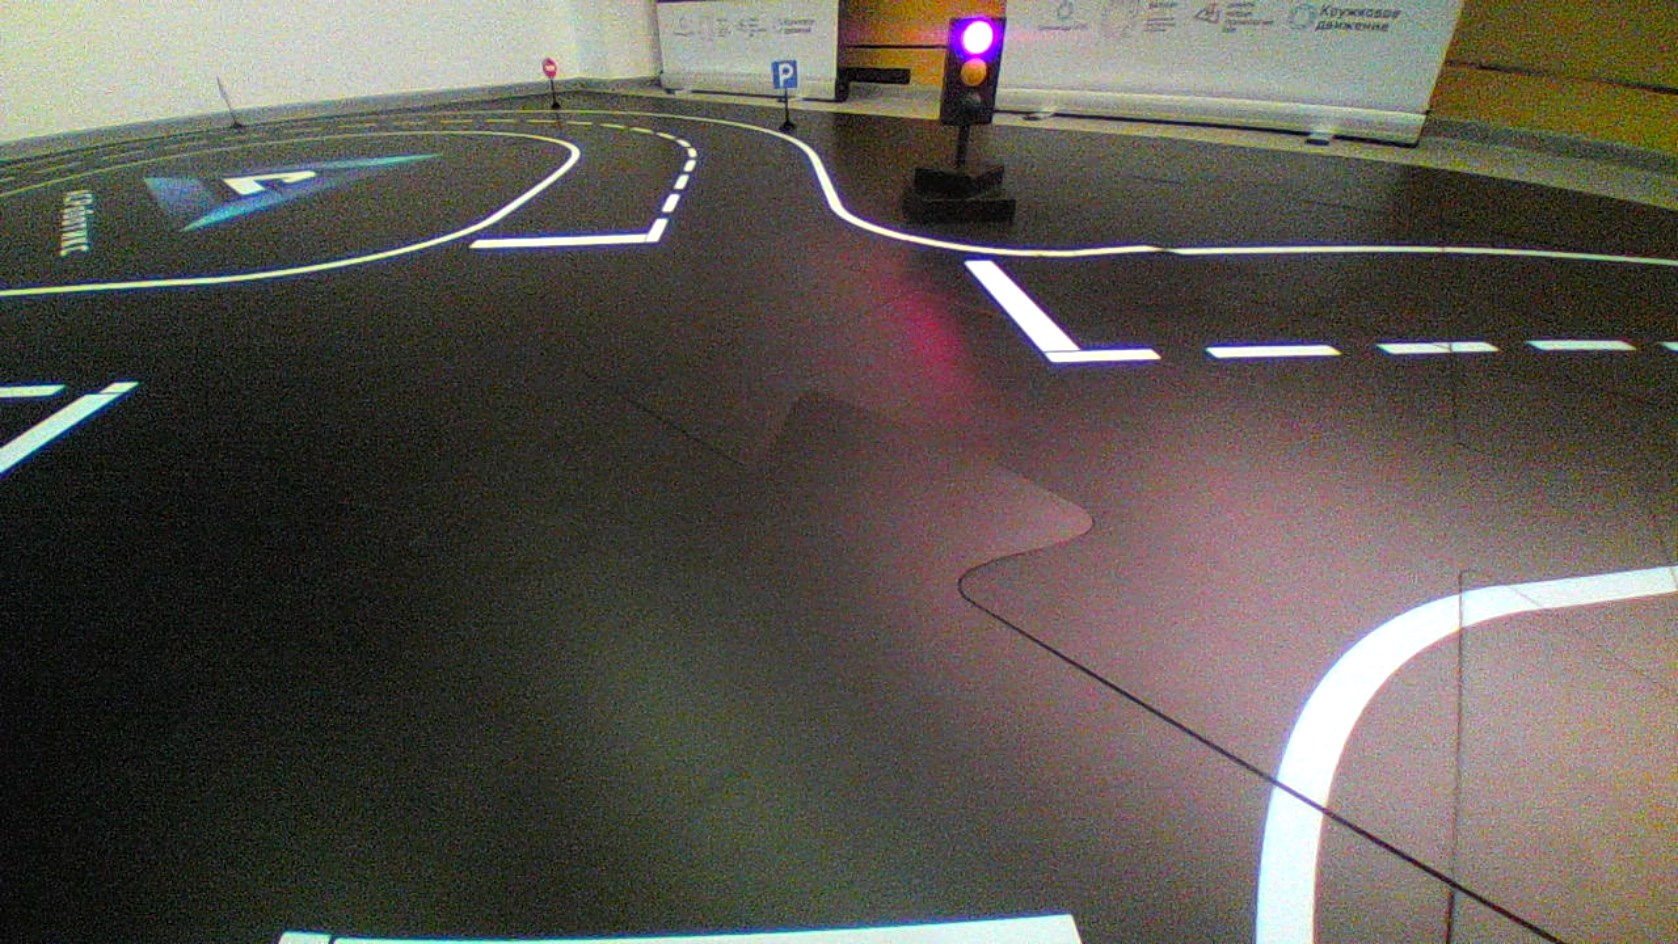trafficlight: (938, 15, 1007, 127)
